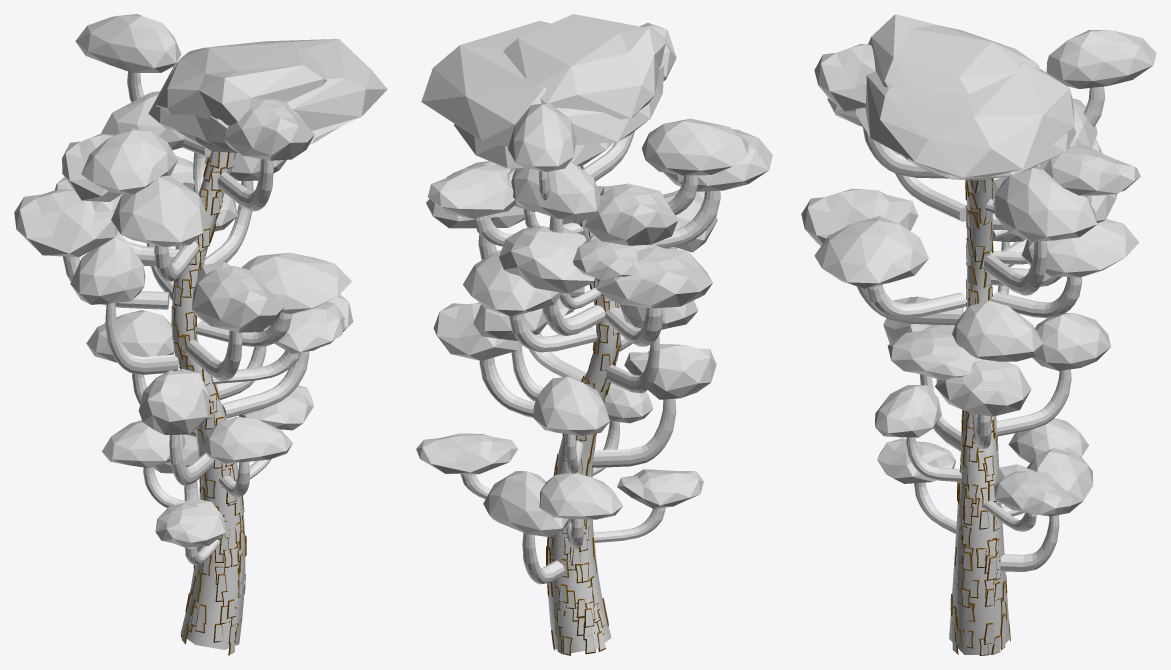
Rendered from Tree05.fbx.
3 renders of one model, left to right at view 1: azimuth 30°, elevation 25°; view 2: azimuth 150°, elevation 25°; view 3: azimuth 270°, elevation 25°, orthographic. The views are drawn at different scales.
Parts seen in each view (by area): view 1: Tree05; view 2: Tree05; view 3: Tree05.
Part boxes in pixels (box(x1,y1,x2,y2)): Tree05: box(14, 14, 387, 655); Tree05: box(416, 14, 772, 655); Tree05: box(801, 14, 1156, 655).
Size of the model in its own units: 732 by 1343 by 697.
